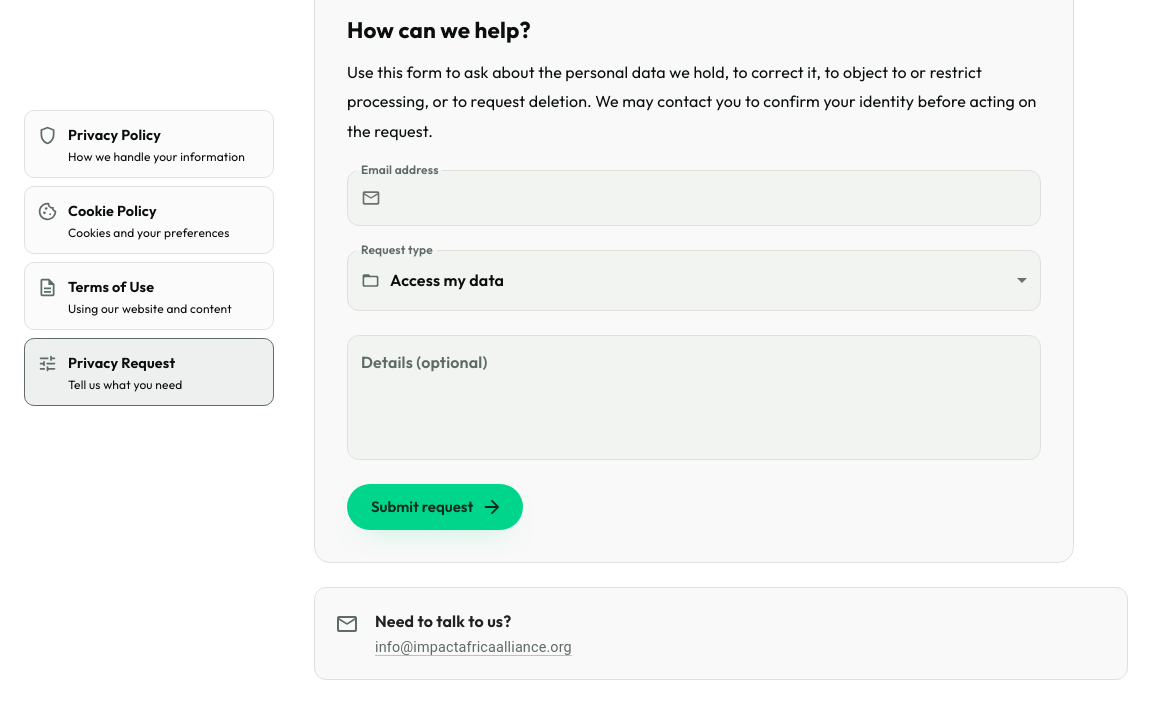
Test: PrivacyRequest › validates email before sending a request
(page scrolled)
Click the button "Submit request" at (435, 507), box [347, 484, 523, 530]
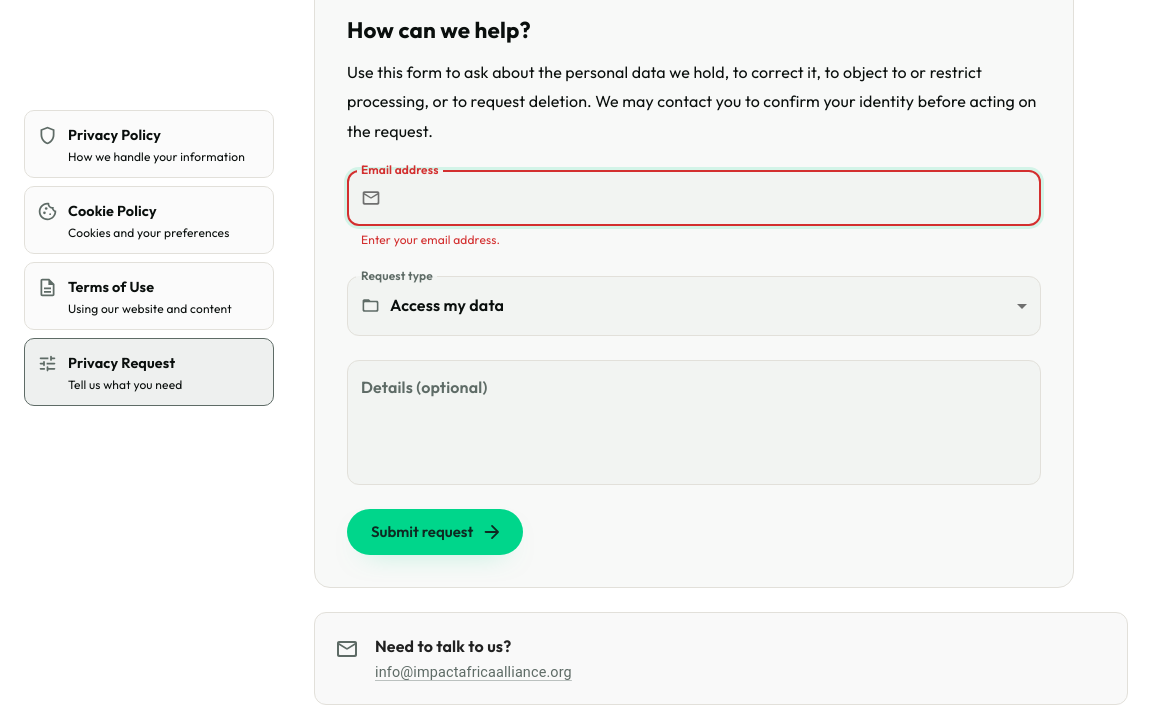
Check: the text "Enter your email address." is shown, box [361, 232, 500, 247]
